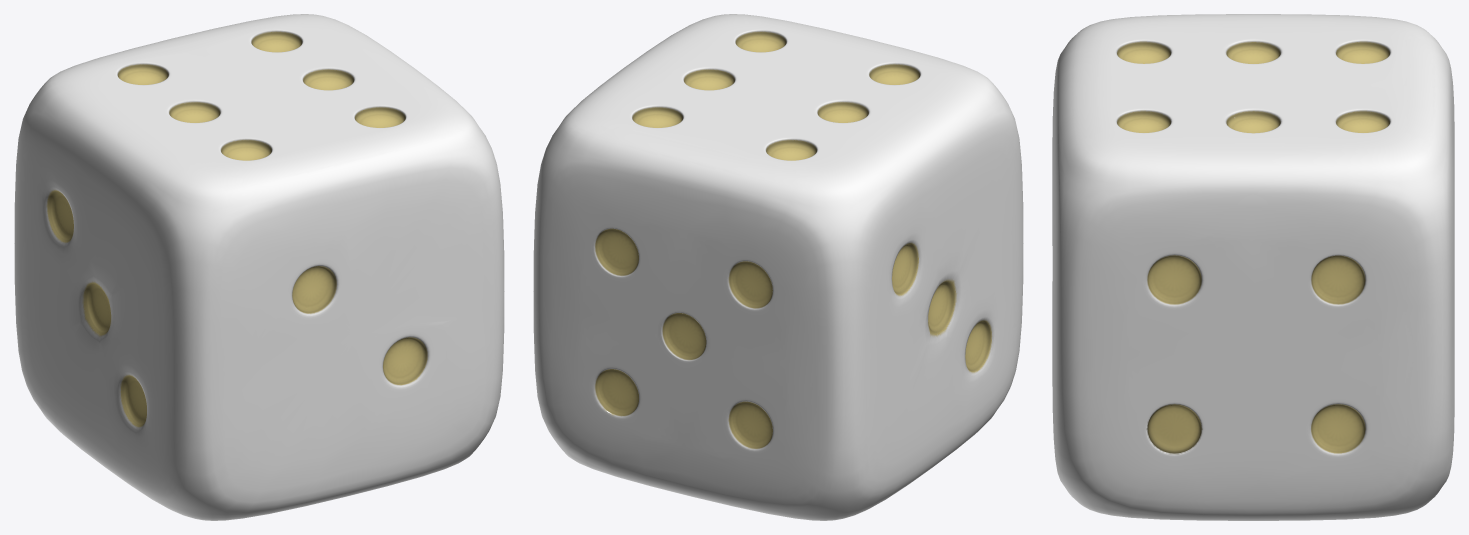
Rendered from dice.fbx.
3 views of the same model, side by side, from view 1: azimuth 30°, elevation 25°; view 2: azimuth 150°, elevation 25°; view 3: azimuth 270°, elevation 25° (orthographic). The views are drawn at different scales.
Parts seen in each view (by area): view 1: Cube.007; view 2: Cube.007; view 3: Cube.007.
Part boxes in pixels (box(x1,y1,x2,y2)): Cube.007: box(14, 14, 504, 520); Cube.007: box(533, 14, 1023, 520); Cube.007: box(1052, 14, 1454, 520).
Size of the model in its own units: 200 by 200 by 200.
